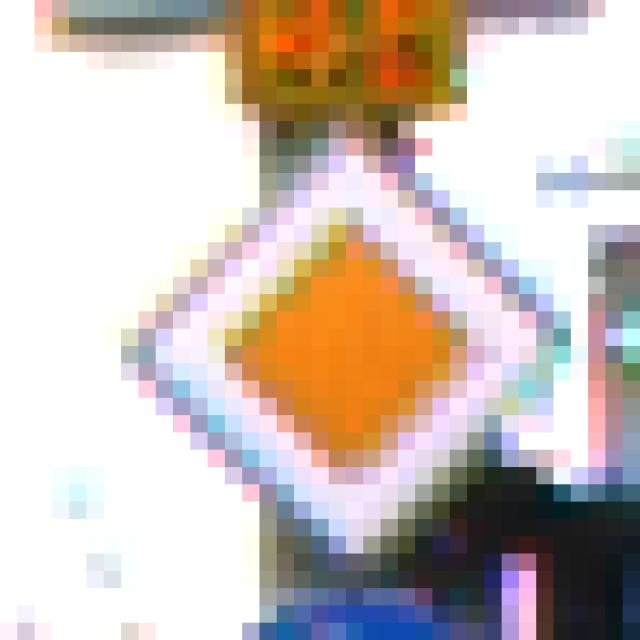Main Road: (105, 105, 537, 554)
